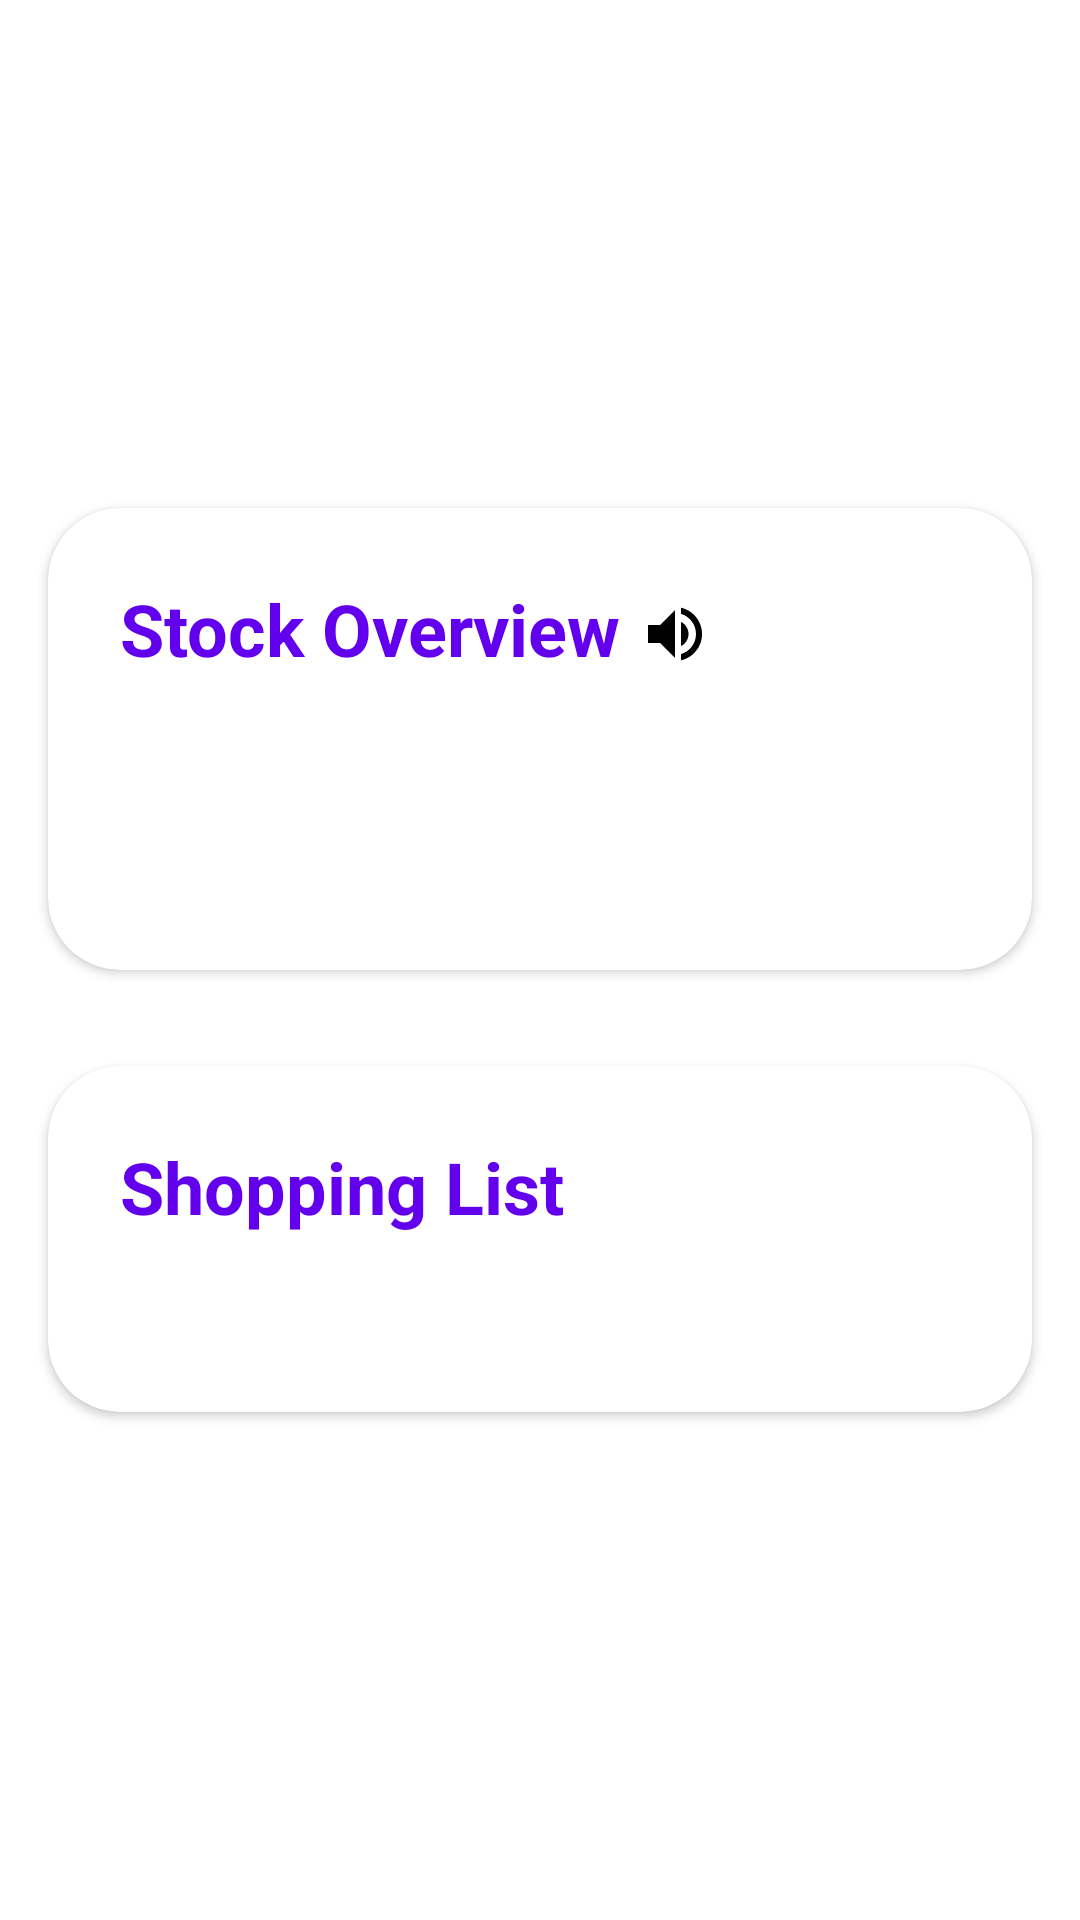

Where to tap for icons on this 1080 x 1920 app screen, as [x,y]:
Speaker Icon: [675,634]
